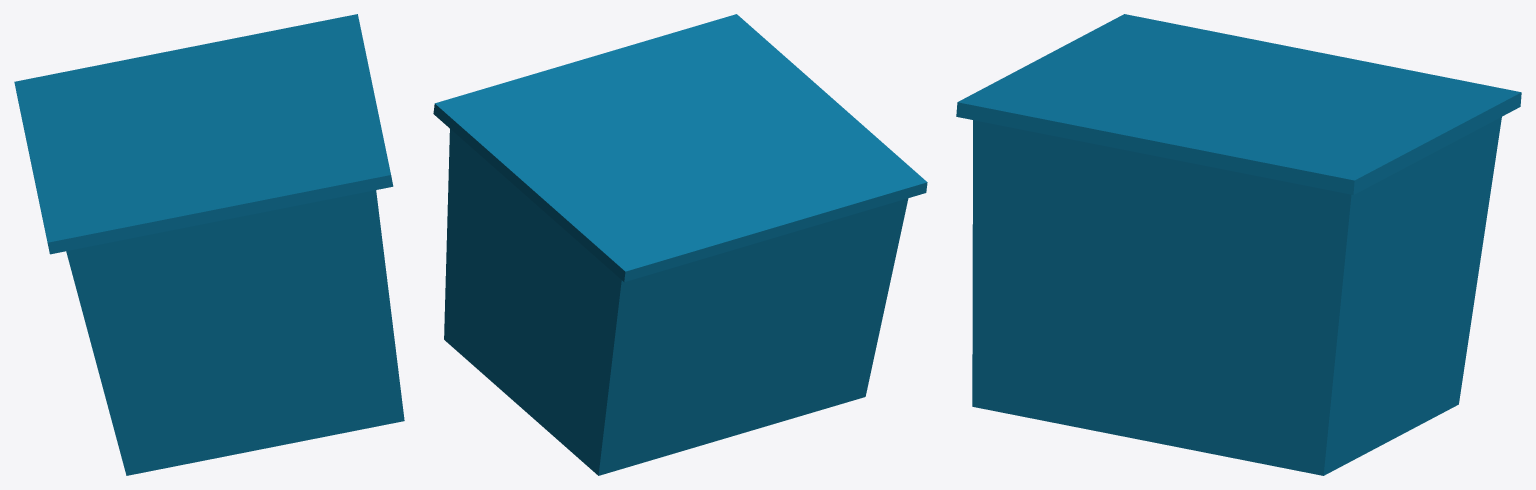
Rendered from BoxDrugs.FBX.
3 views of the same model, side by side, from view 1: azimuth 30°, elevation 25°; view 2: azimuth 150°, elevation 25°; view 3: azimuth 270°, elevation 25° (orthographic). The views are drawn at different scales.
Parts seen in each view (by area): view 1: Box065; view 2: Box065; view 3: Box065.
Boxes of the visible parts, bbox=[...] form: Box065: bbox=[14, 14, 404, 475]; Box065: bbox=[433, 14, 927, 475]; Box065: bbox=[956, 14, 1521, 475].
Bounding box in the file's own units: 26.21 × 18.16 × 27.01.
